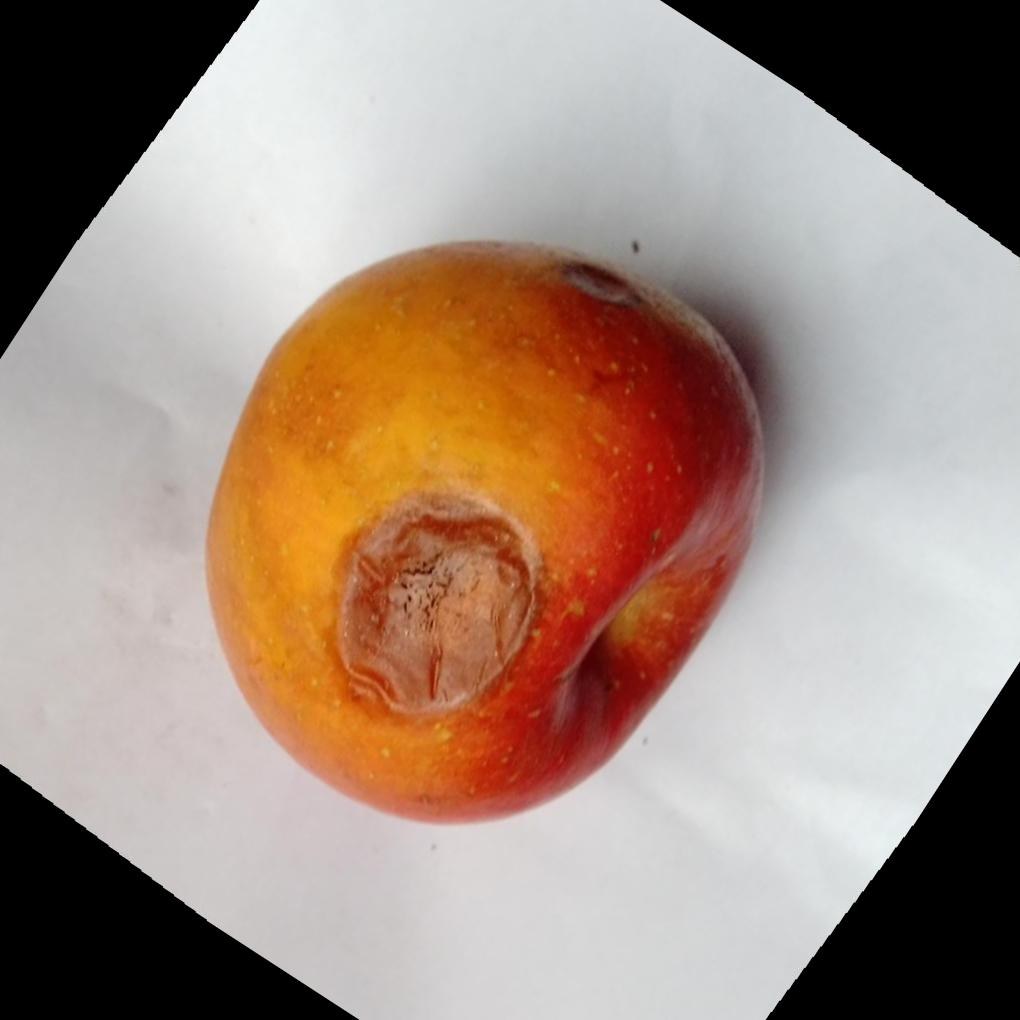FreshOrange: (205, 239, 770, 827)
